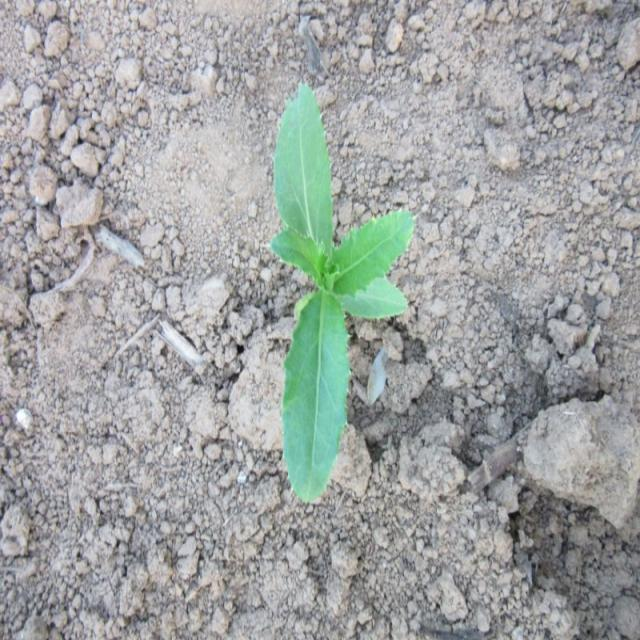cs: (268, 87, 415, 510)
